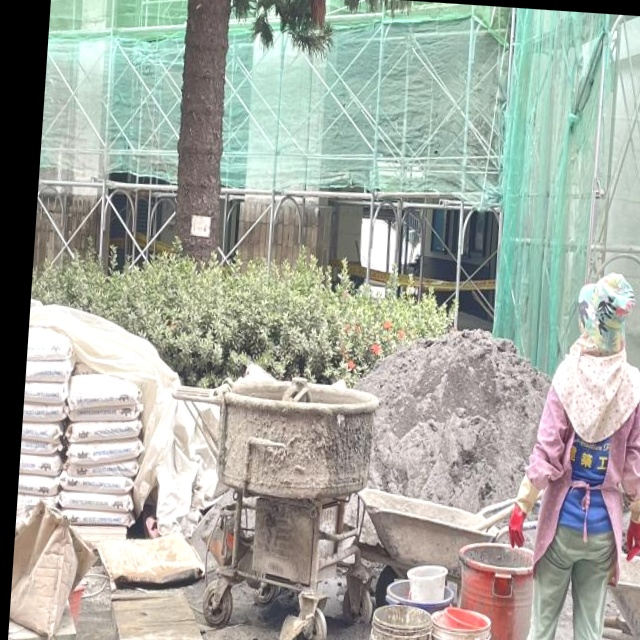Sin_Casco_Mascarrilla: (574, 270, 635, 348)
Sin_Chaleco: (545, 353, 639, 557)
